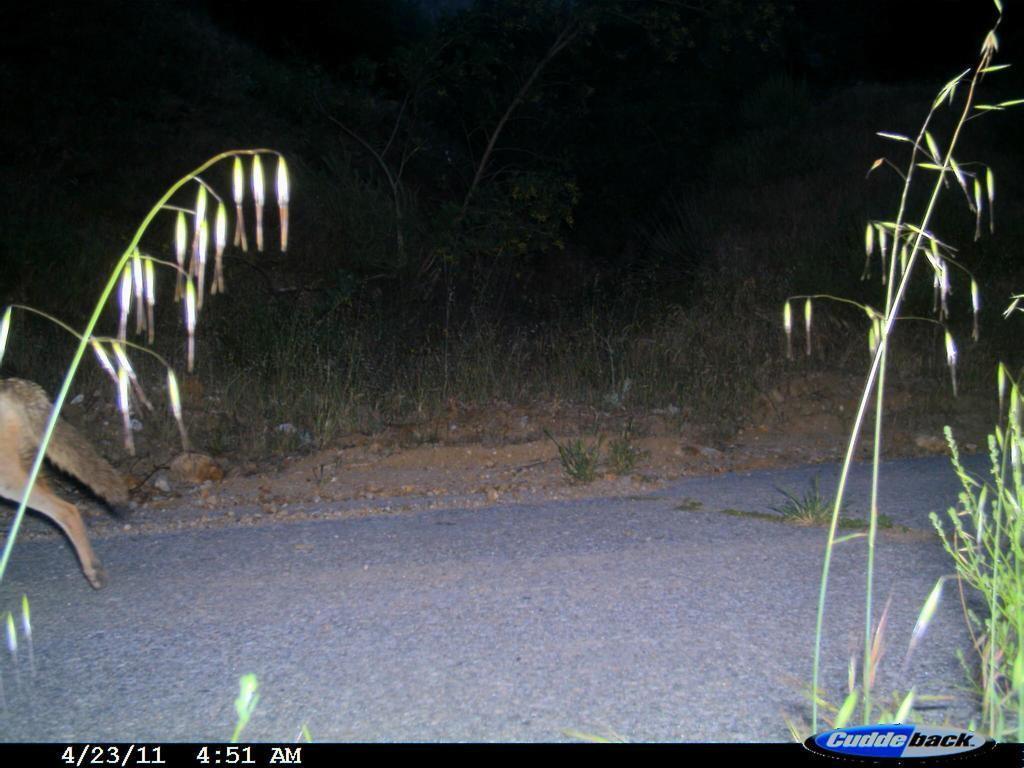coyote: (3, 361, 148, 602)
